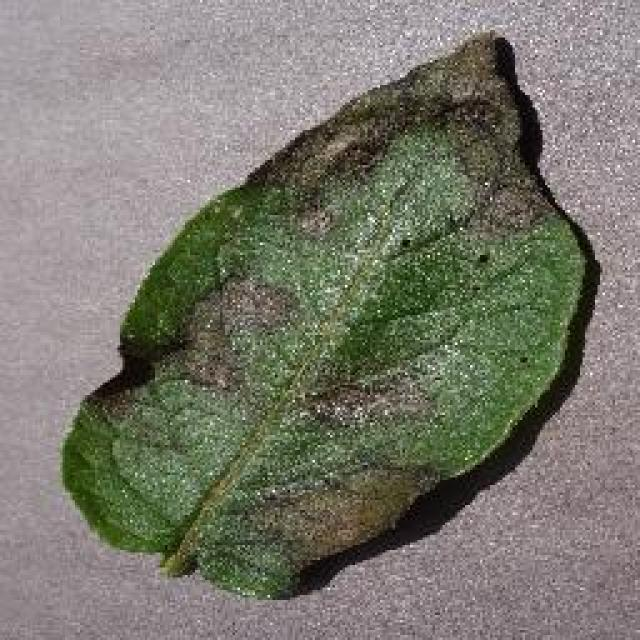late_blight: (55, 25, 603, 603)
